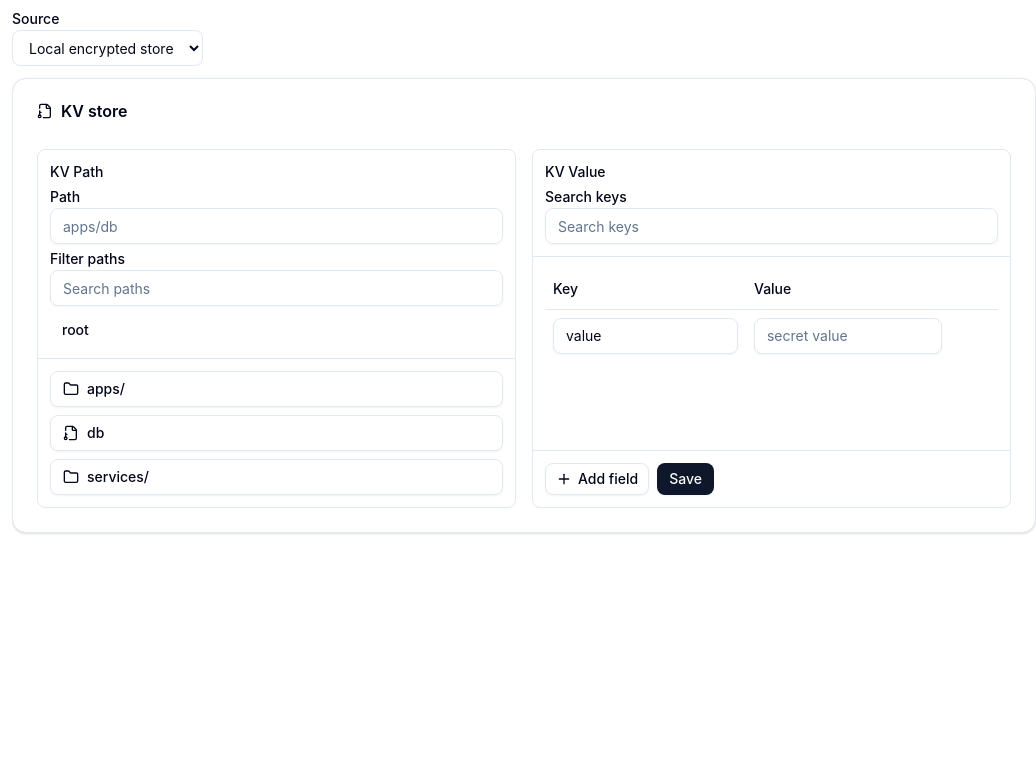
Test case: KV secrets editor › shows version metadata without values
The image size is (1036, 780).
Click the button "db": [71, 433] box 50,415 -> 503,451
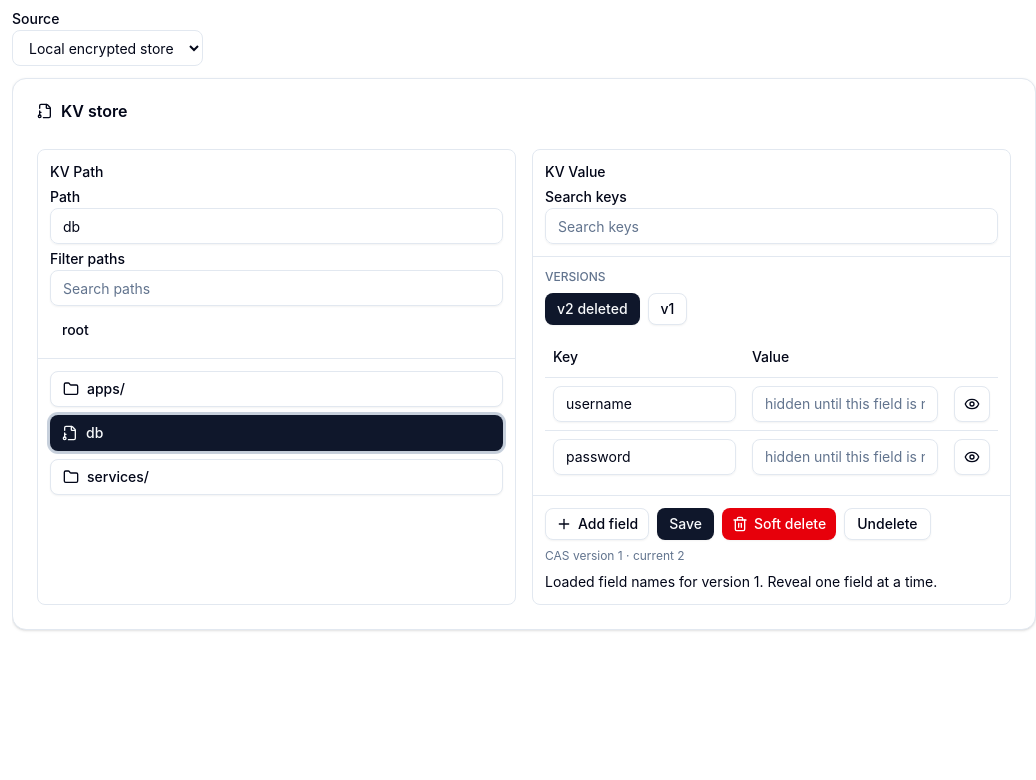
Check: the button "v2 deleted" is shown, box 545,293 -> 640,325
Check: the button "v1" is shown, box 648,293 -> 688,325
Check: the field showing "username" is shown, box 553,386 -> 736,422
